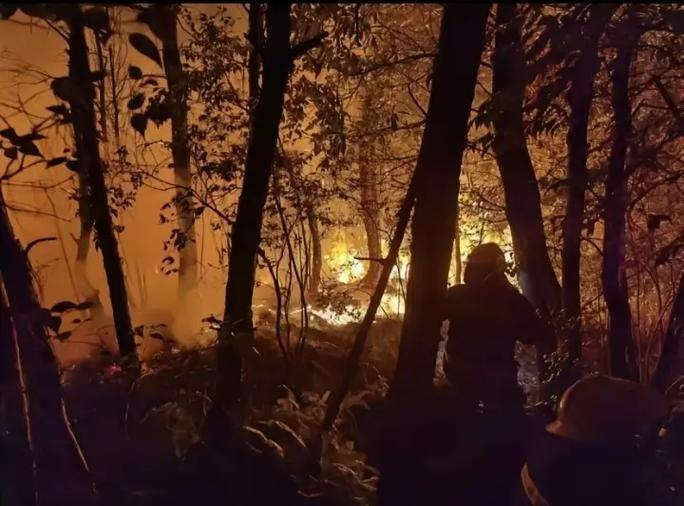fire: (1, 2, 681, 334)
